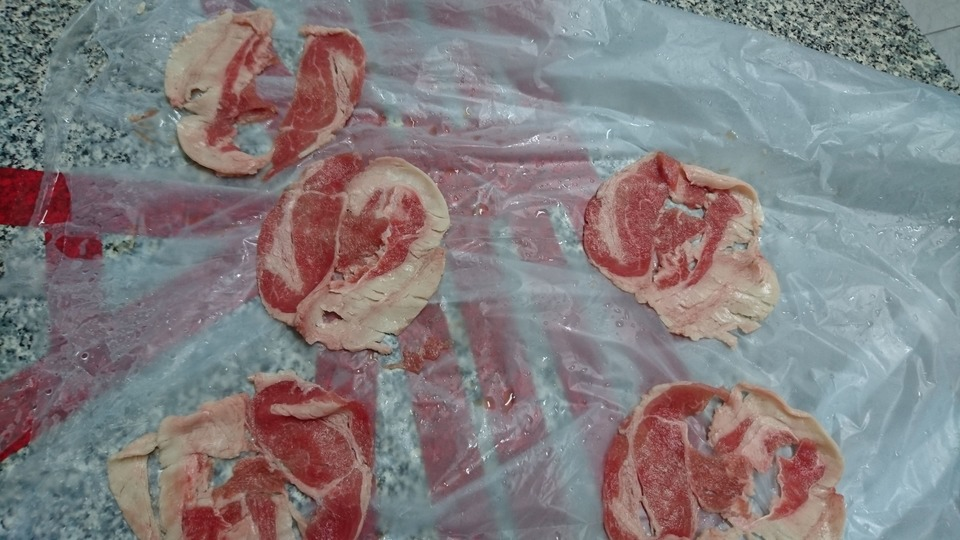restructured meat: (104, 375, 377, 540), (587, 375, 860, 539), (253, 148, 452, 358), (587, 141, 786, 351), (173, 1, 370, 184)
